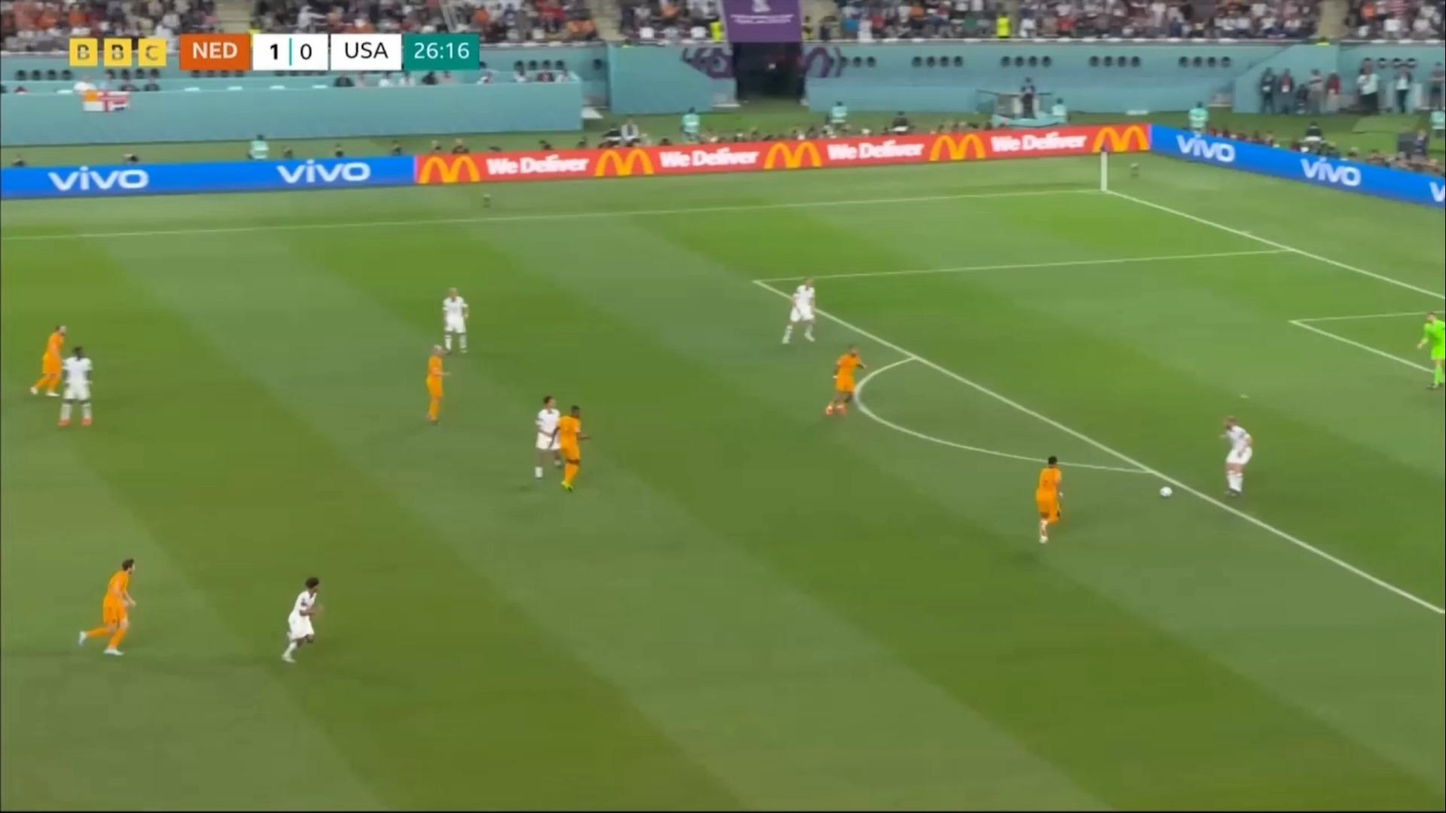Ball: (1158, 483, 1176, 500)
Player: (82, 554, 147, 663), (277, 571, 329, 670), (1212, 416, 1264, 507), (56, 342, 105, 432), (527, 396, 573, 485), (548, 399, 591, 491), (819, 344, 867, 424), (29, 319, 74, 401), (1028, 456, 1067, 547), (777, 278, 824, 352), (419, 341, 456, 430), (436, 284, 473, 358), (1416, 312, 1446, 391)
